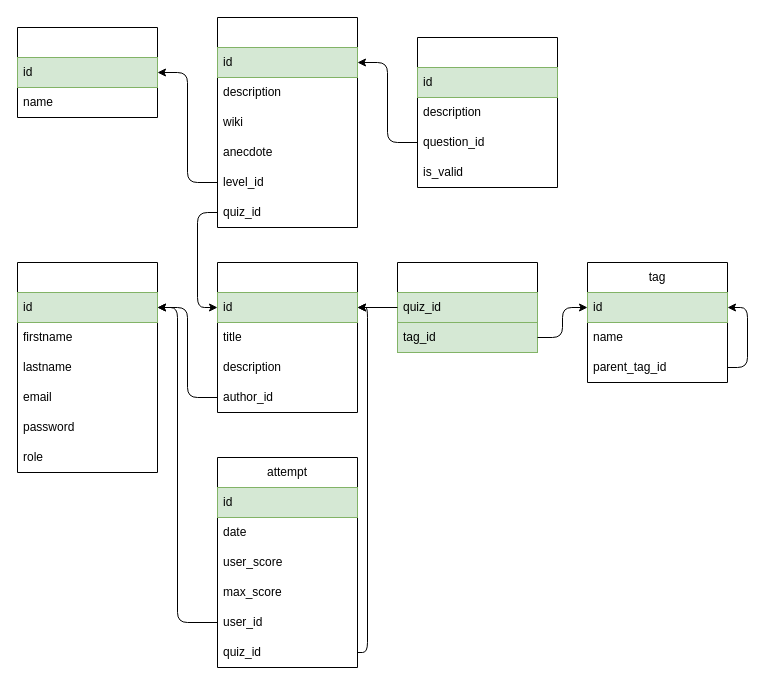
This 773x685 diagram has some shape labels left out. Each missing label, with the box of its shape:
choice: (416, 36, 558, 188)
level: (16, 26, 158, 118)
question: (216, 16, 358, 228)
quiz: (216, 262, 358, 412)
quiz_has_tag: (396, 262, 538, 352)
user: (16, 262, 158, 472)
